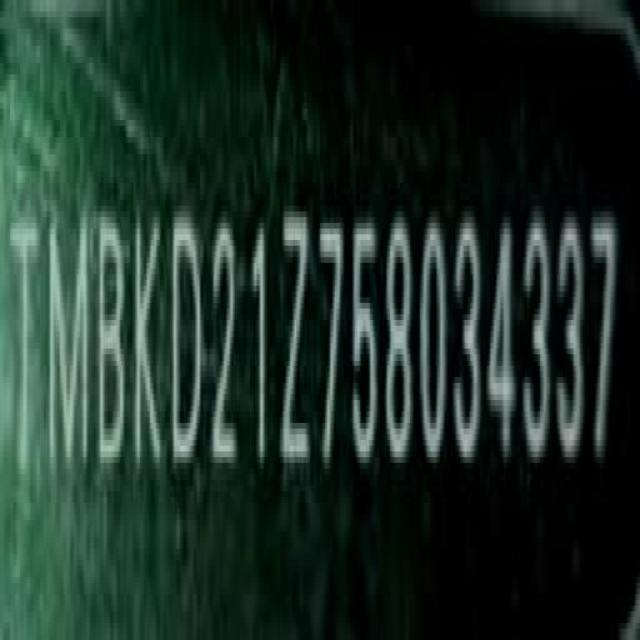0: (418, 208, 448, 470)
1: (251, 211, 274, 481)
2: (210, 207, 242, 480)
3: (554, 206, 584, 469), (454, 212, 483, 471), (523, 214, 552, 470)
4: (489, 210, 520, 471)
5: (351, 204, 381, 475)
7: (317, 201, 346, 478), (592, 207, 622, 470)
8: (387, 208, 416, 470)
B: (97, 204, 129, 483)
D: (172, 199, 208, 476)
K: (130, 200, 164, 481)
M: (44, 200, 90, 488)
T: (10, 205, 42, 495)
Z: (282, 198, 314, 482)
